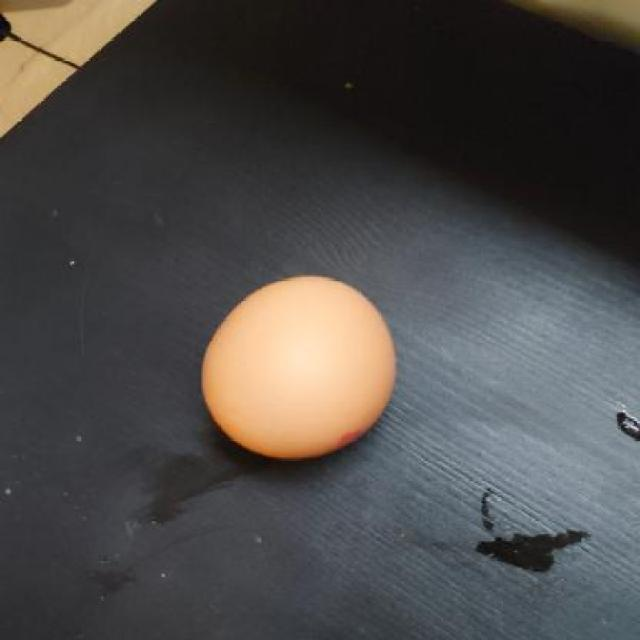biodegradable: (198, 273, 400, 462)
